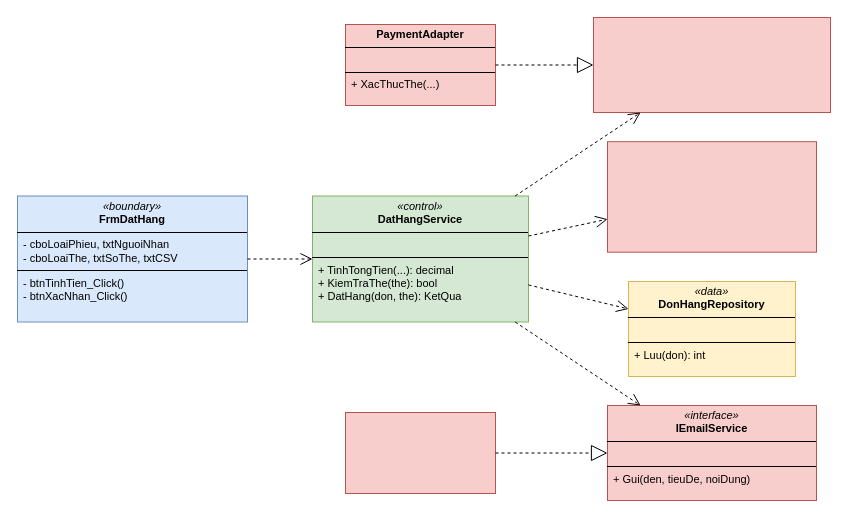
Some shapes in this 848 by 518 pixel diagram are drawn without their labels. The shapes that lost their labels are listed below. From the top down, each one's box as (x1, y1, x2, y2) in pixels, then its label:
(592, 16, 830, 112): «interface» IPaymentGateway + XacThucThe(the, soTien): bool
(606, 141, 816, 252): «interface» IProductSystem + LaySanPham(maSP): SanPham + LayDanhSach(maNhom)
(344, 412, 496, 494): EmailAdapter + Gui(...)
